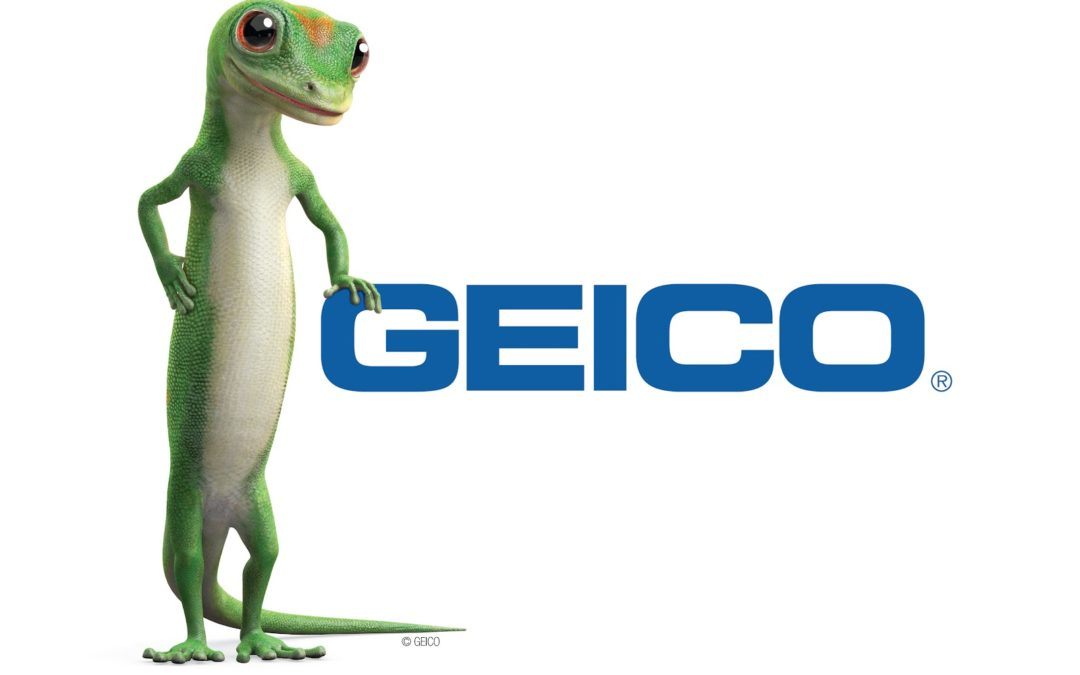Geico: (318, 281, 963, 408)
